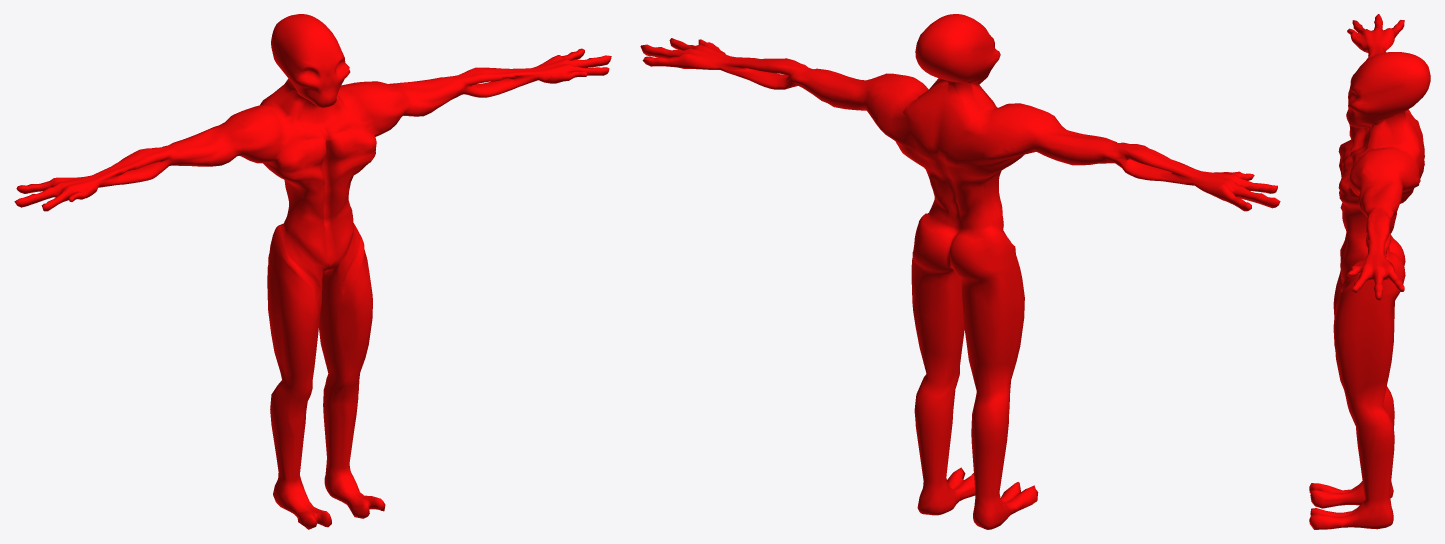
The model's file is Alien_low.fbx.
The picture shows the model from 3 angles, left to right: view 1: azimuth 30°, elevation 25°; view 2: azimuth 150°, elevation 25°; view 3: azimuth 270°, elevation 25°; orthographic projection. The views are drawn at different scales.
Visible parts, largest first — view 1: A_low; view 2: A_low; view 3: A_low.
Part boxes in pixels (x1=…): A_low: x1=14, y1=14, x2=611, y2=529; A_low: x1=640, y1=14, x2=1280, y2=529; A_low: x1=1309, y1=14, x2=1430, y2=529.
Size of the model in its own units: 329 by 250 by 59.79.
